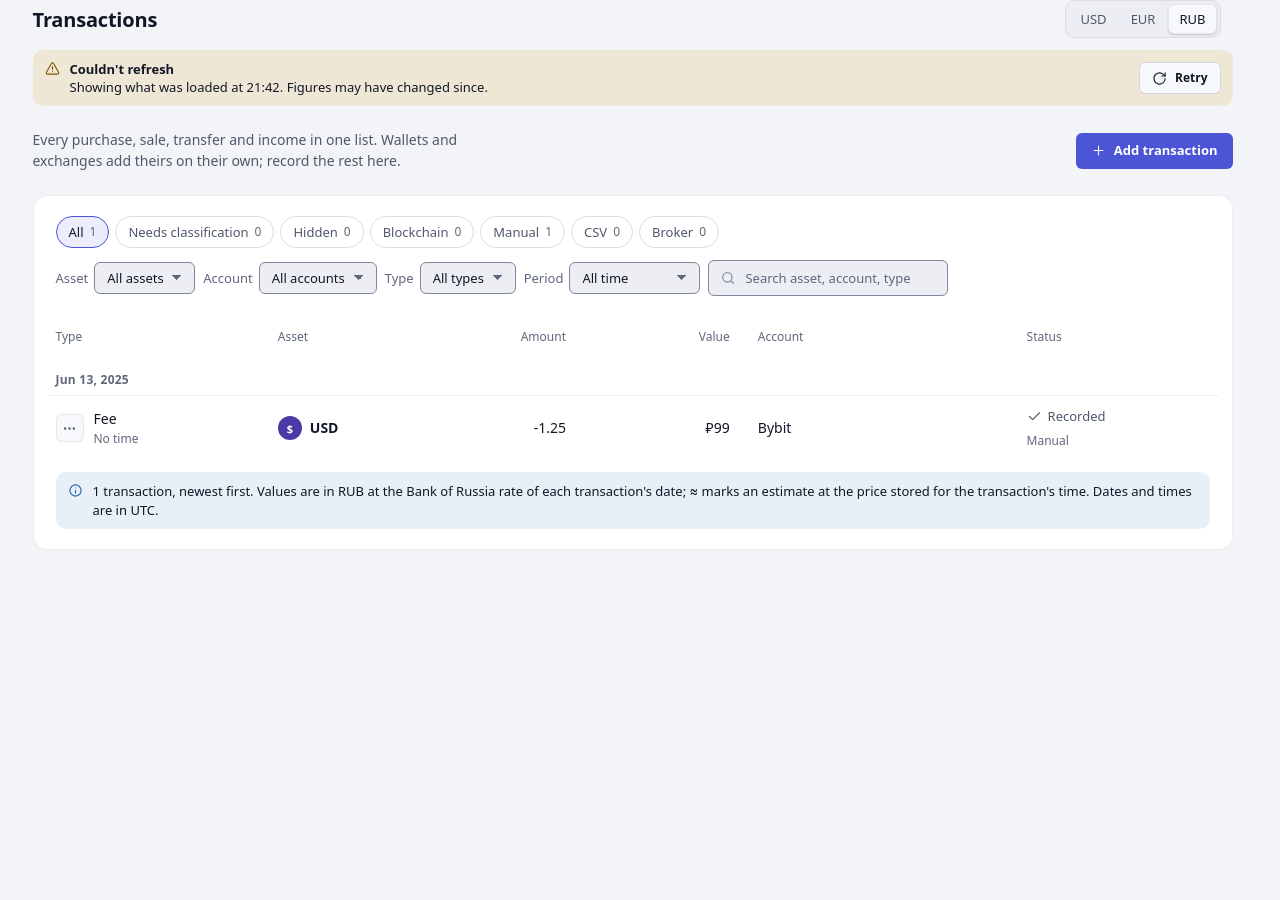
Test: TransactionsPage (list-all-operations) › RUB-LOSS-VALUE keeps fee values consistent across list and drawer: native=false
Step 1. Click the button "Fee" → coordinates (105, 419), box [94, 409, 117, 430]
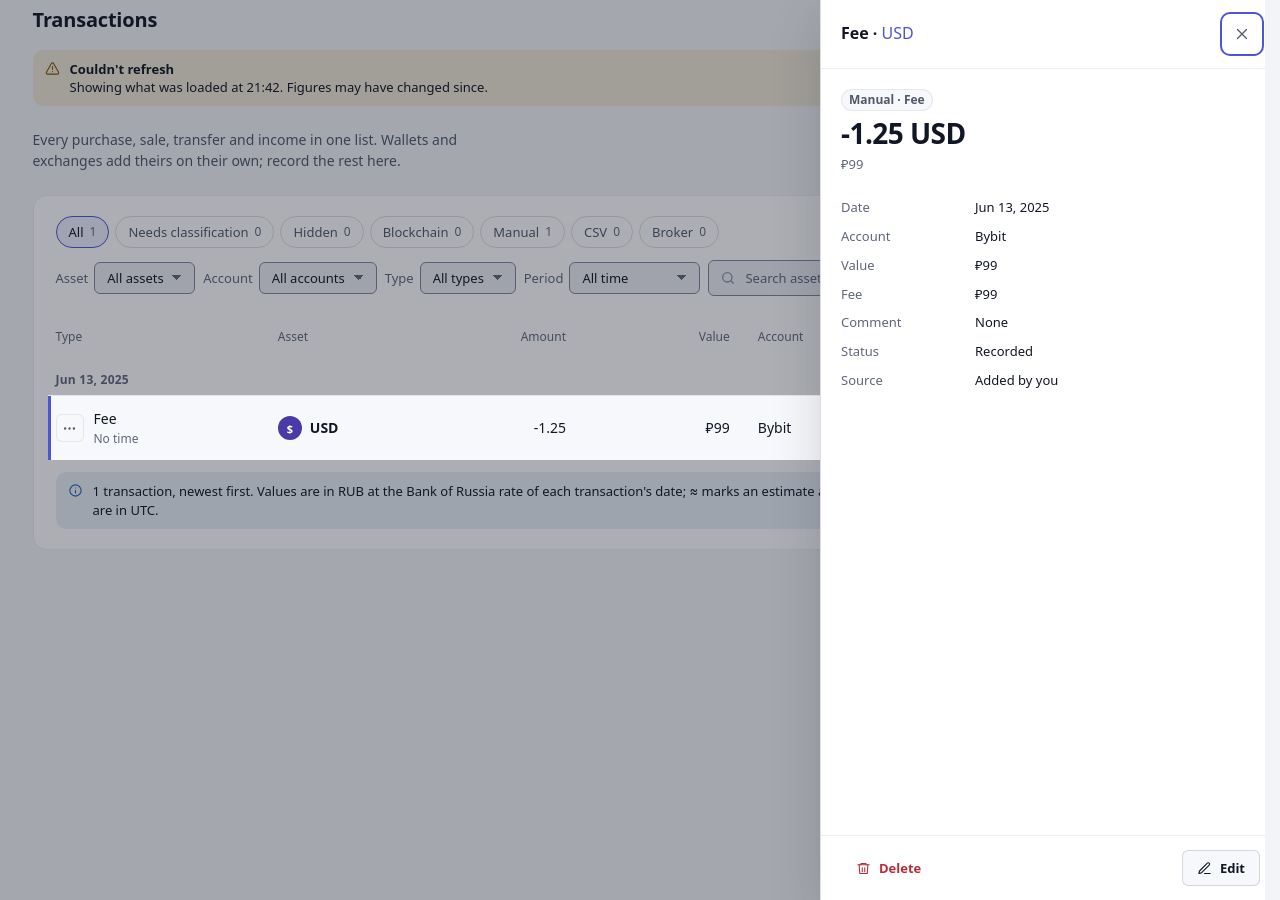
Now the 3rd text "₽99" is shown, box [975, 285, 998, 303]
